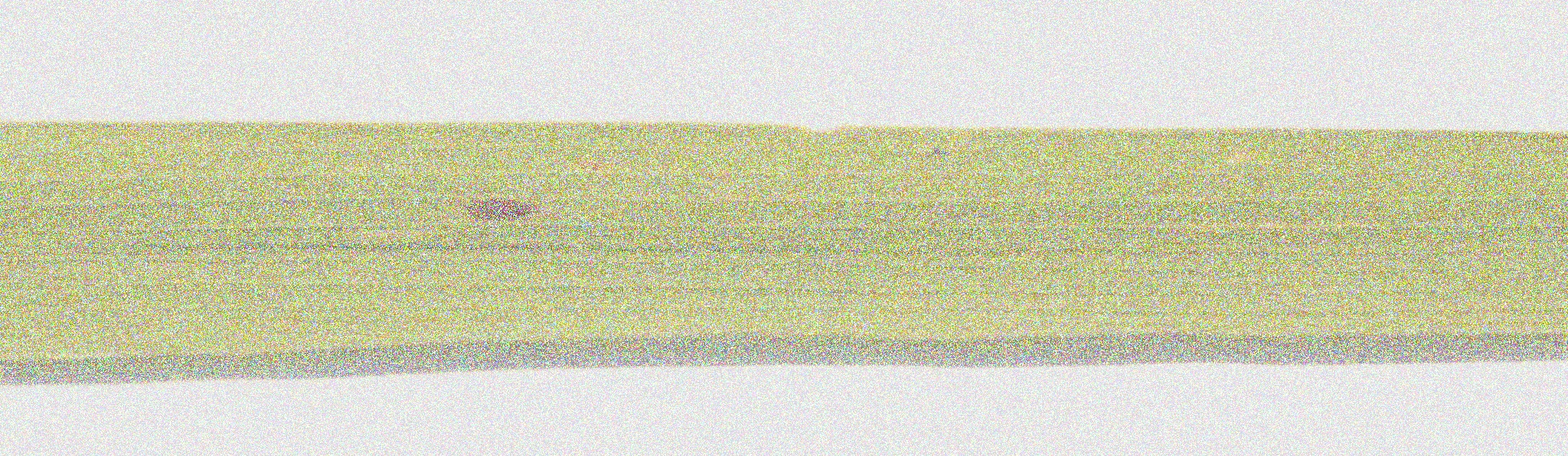Bacterial_Leaf_Blight: (433, 169, 555, 234)
